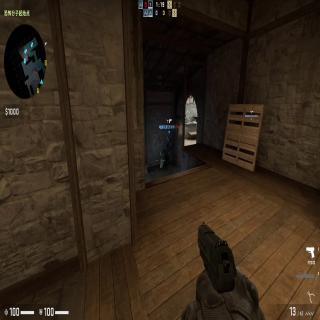CT-Body: (162, 135, 172, 169)
CT-Head: (167, 135, 172, 142)
